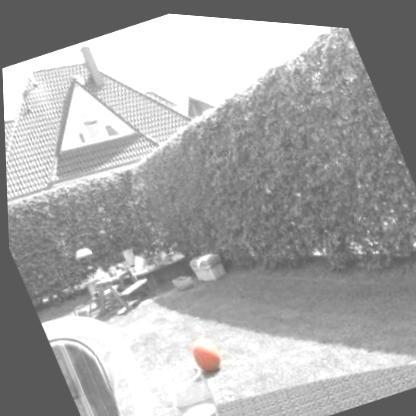basketball: (179, 325, 227, 381)
